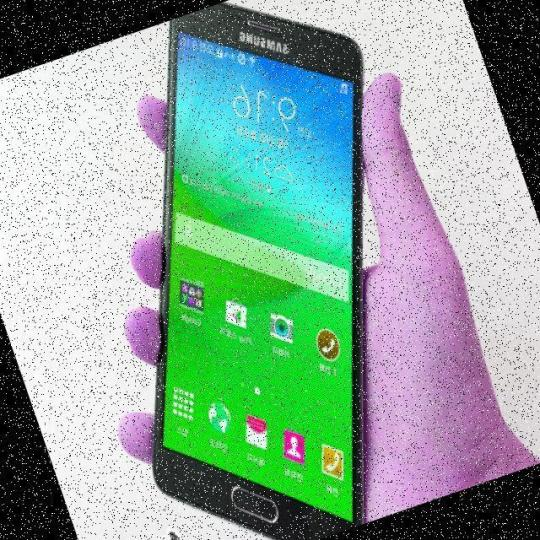phone: (132, 0, 368, 533)
